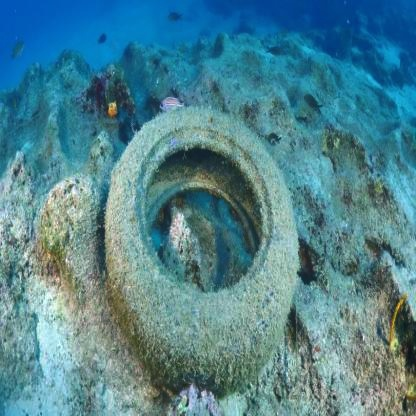tire: (97, 99, 302, 386)
